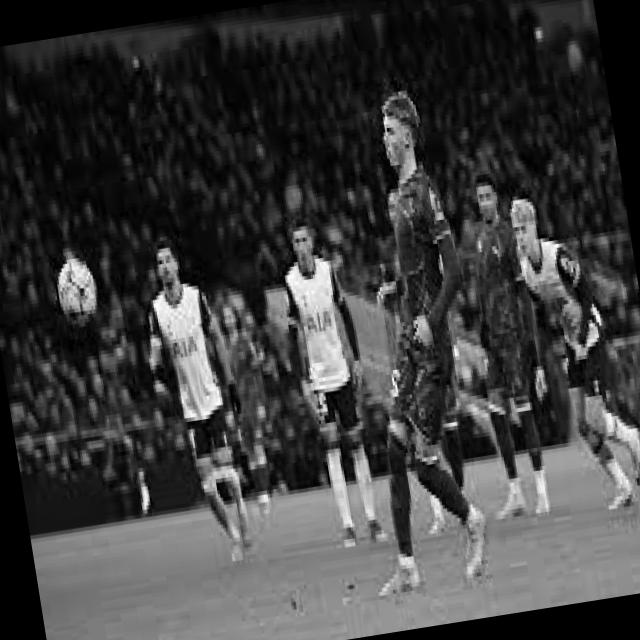football: (51, 250, 103, 336)
